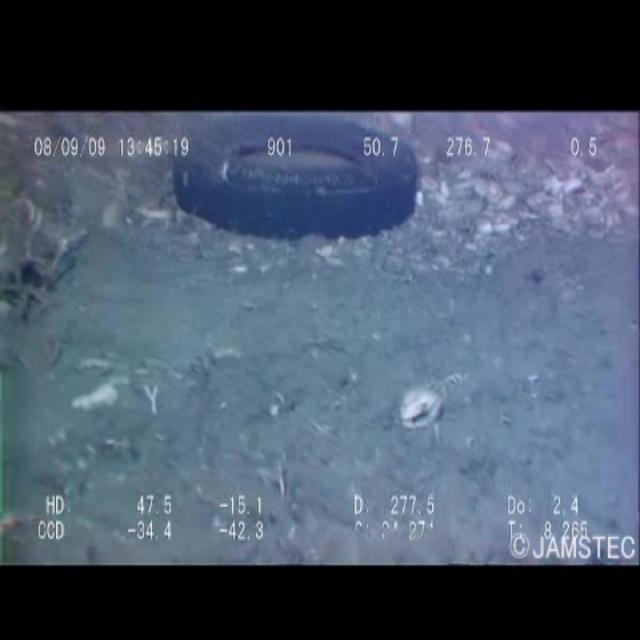Rubber: (148, 112, 448, 254)
